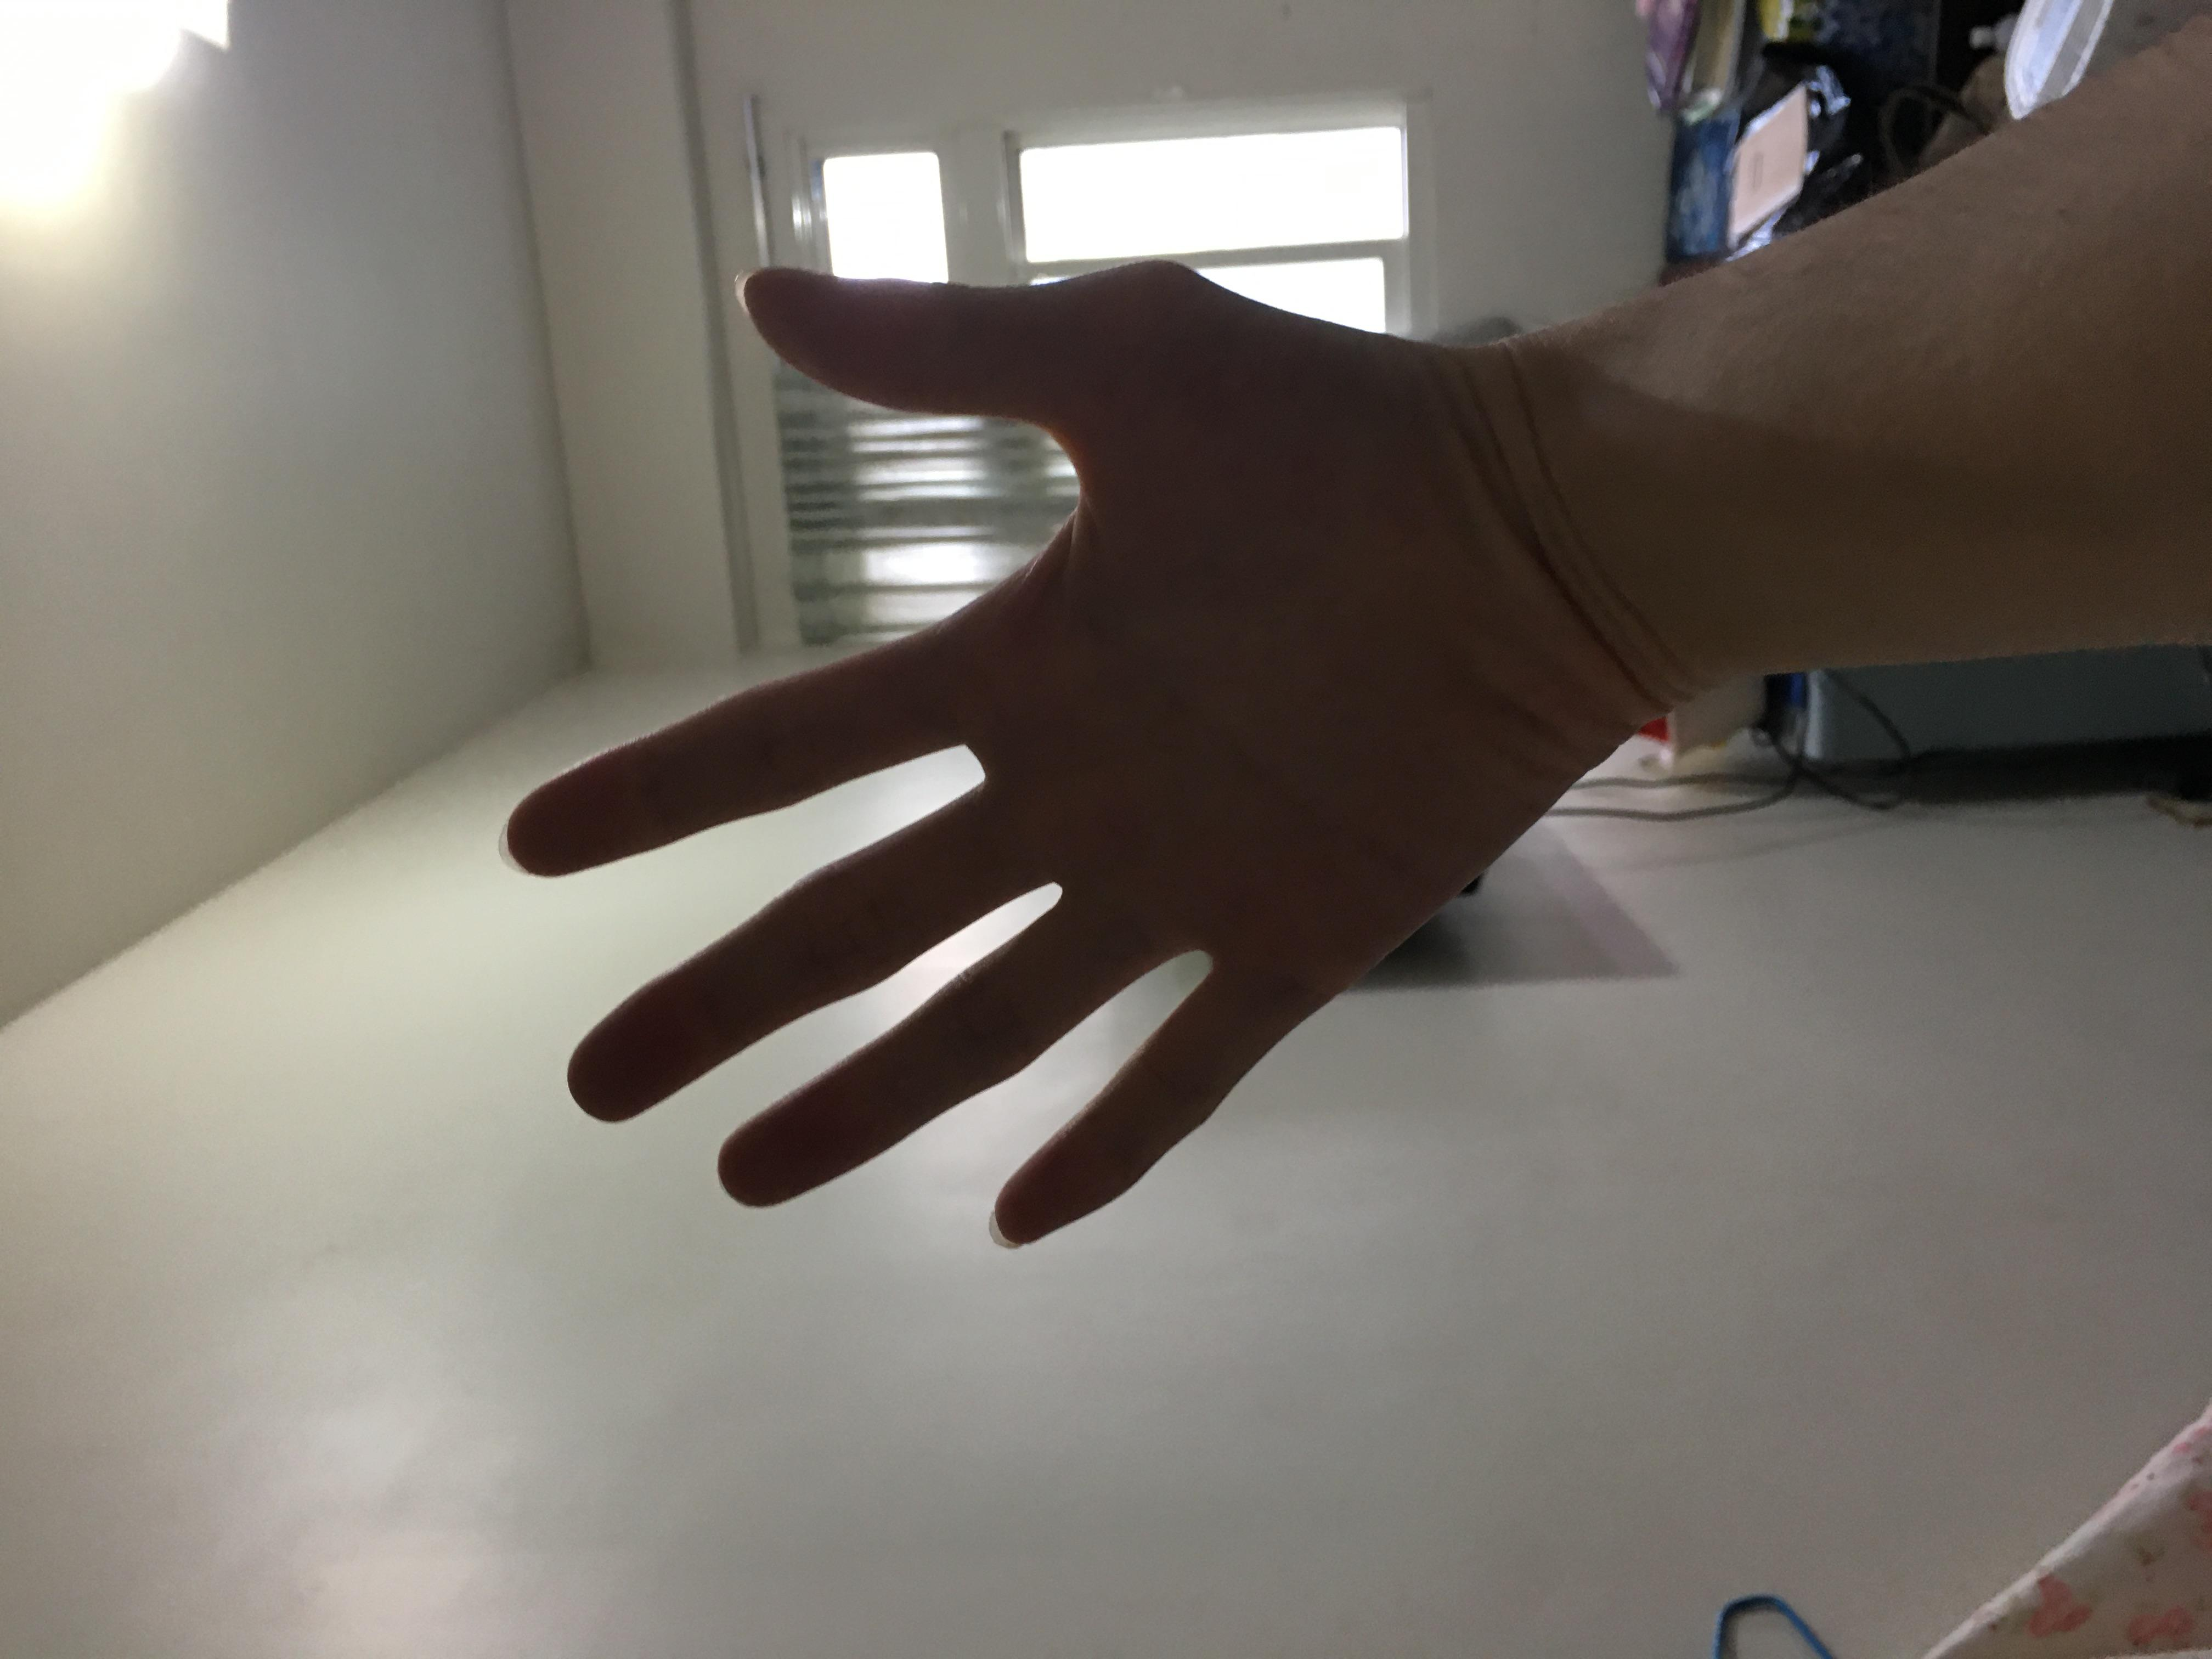hand: (528, 368, 1911, 1323)
